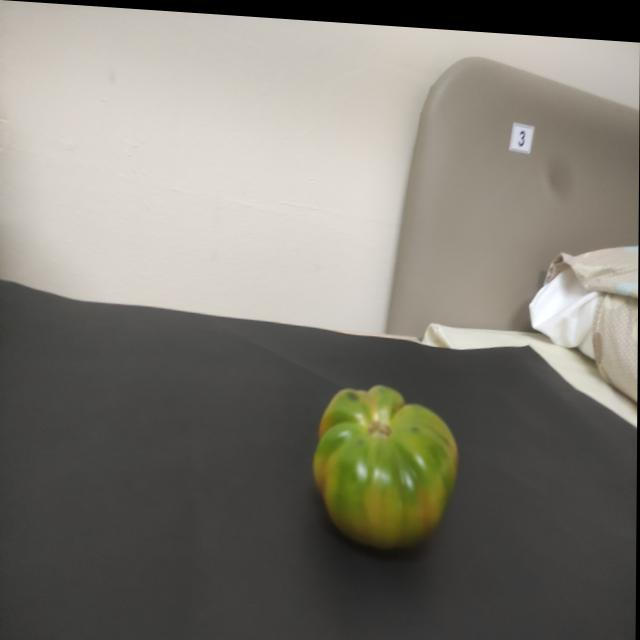yesil: (308, 358, 462, 557)
